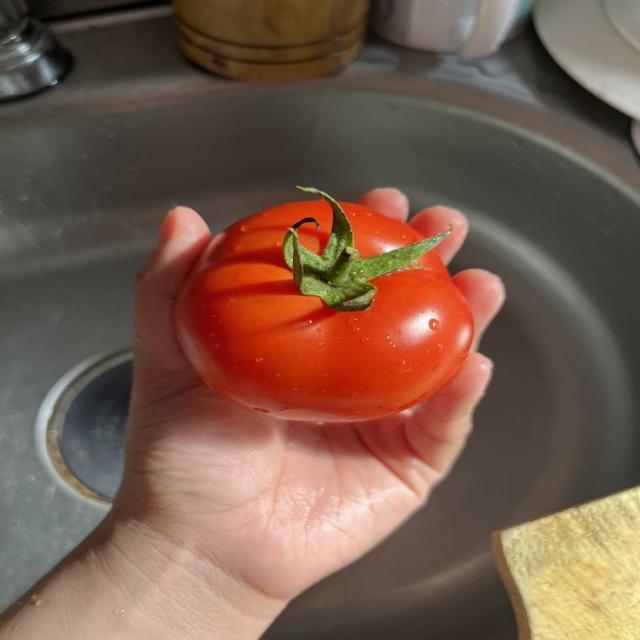tomato: (176, 201, 473, 421)
